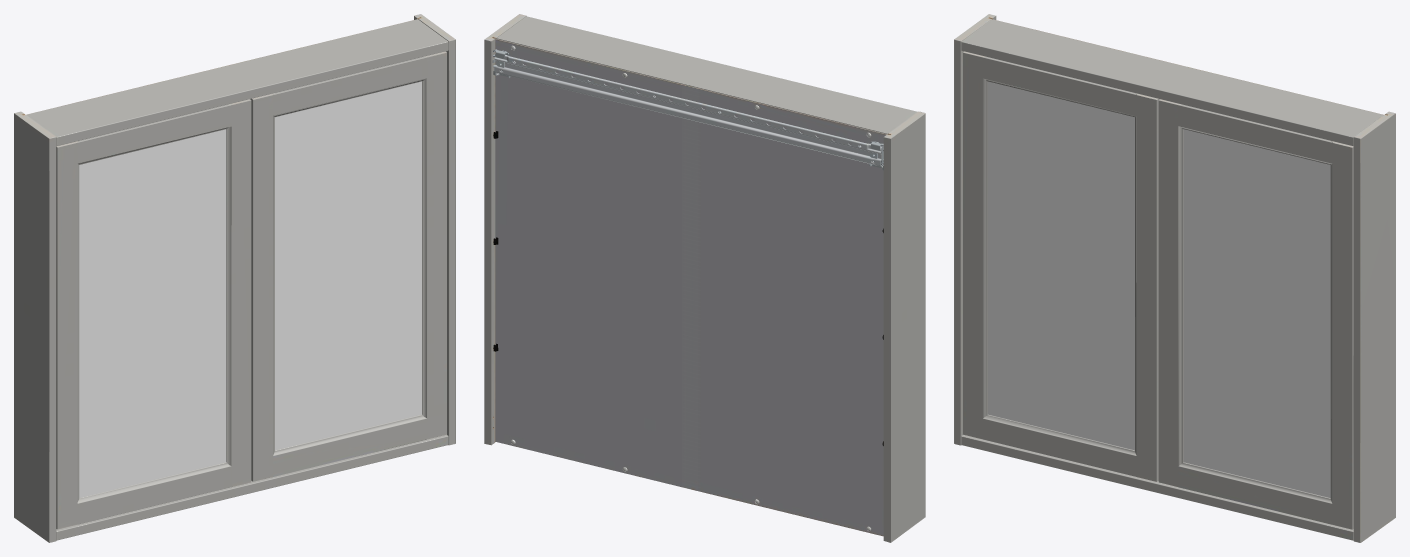
The model's file is tannforsen_szafka_z_lustrem_drzwiczki_20555254.glb.
3 renders of one model, left to right at view 1: azimuth 30°, elevation 25°; view 2: azimuth 150°, elevation 25°; view 3: azimuth 330°, elevation 25°, orthographic.
Visible parts, largest first — view 1: tannforsen_szafka_z_lustrem_drzwiczki_20555254; view 2: tannforsen_szafka_z_lustrem_drzwiczki_20555254; view 3: tannforsen_szafka_z_lustrem_drzwiczki_20555254.
Boxes of the visible parts, x1,y1,x2,y2 form: tannforsen_szafka_z_lustrem_drzwiczki_20555254: [14, 14, 455, 542]; tannforsen_szafka_z_lustrem_drzwiczki_20555254: [484, 14, 925, 542]; tannforsen_szafka_z_lustrem_drzwiczki_20555254: [954, 14, 1395, 542].
Size of the model in its own units: 1 by 0.9504 by 0.1506.
3 materials, 3 textured.
